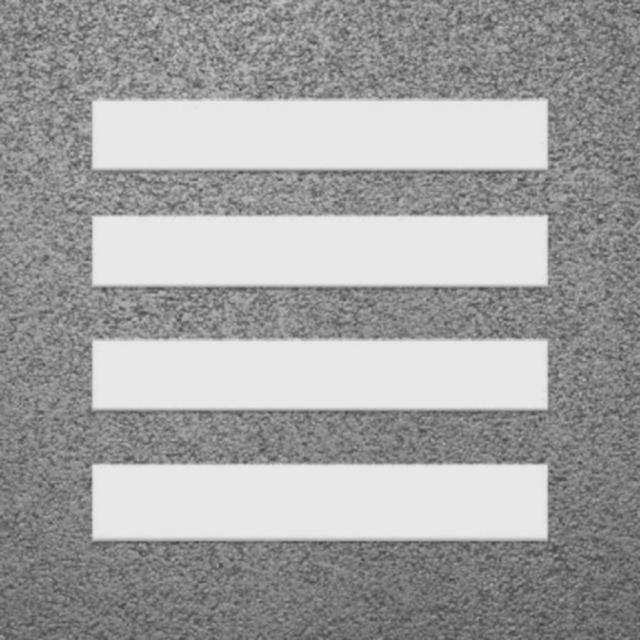Pedestrian crosswalk: (23, 51, 606, 585)
